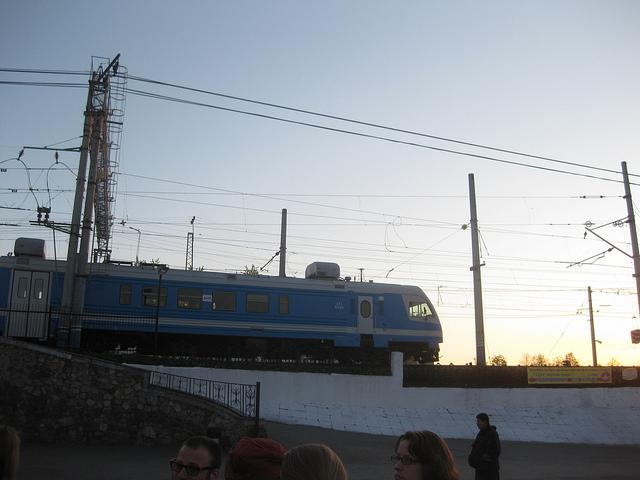Train: (0, 235, 447, 366)
